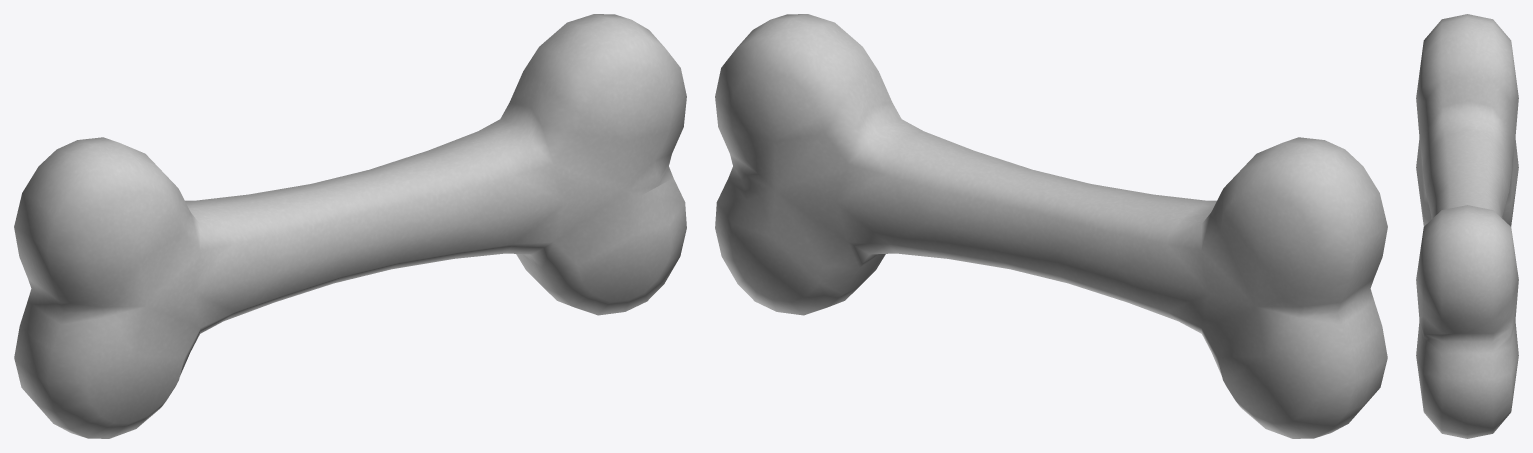
Rendered from Bonetex3.fbx.
3 renders of one model, left to right at view 1: azimuth 30°, elevation 25°; view 2: azimuth 150°, elevation 25°; view 3: azimuth 270°, elevation 25°, orthographic. The views are drawn at different scales.
Visible parts, largest first — view 1: bone; view 2: bone; view 3: bone.
Part boxes in pixels (box(x1,y1,x2,y2)): bone: box(14, 14, 686, 438); bone: box(715, 14, 1387, 438); bone: box(1416, 14, 1518, 438).
Bounding box in the file's own units: 68.65 × 29.49 × 12.33.
